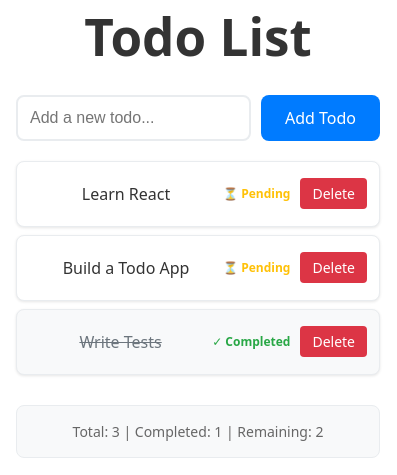
Test case: TodoList Component › deletes todo when delete button is clicked
expect the text "Learn React" is shown: met, box [82,183,170,205]
Click the button with test id "delete-todo-1": [334, 194] box [300,178,367,209]
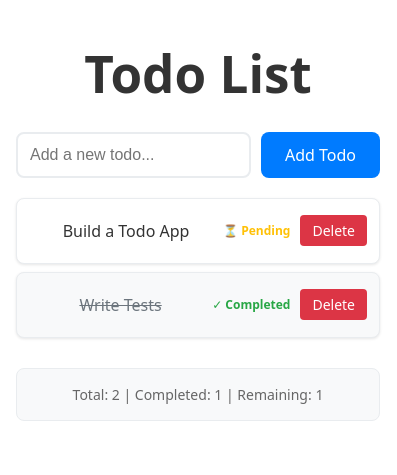
expect the text "Learn React" is gone: met
expect the text "Total: 2 | Completed: 1 | Remaining: 1" is shown: met, box [73,385,323,404]
